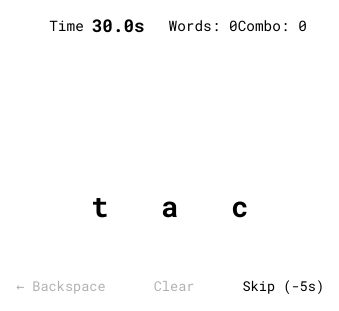
Test: TimedMode - Game Simulation › solving a word correctly increases the word count
The width and height of the screenshot is (339, 311).
expect the text "Words: 0" is shown: met, box [169,16,238,35]
Click the button "c" at (240, 206), box [209,175,271,237]
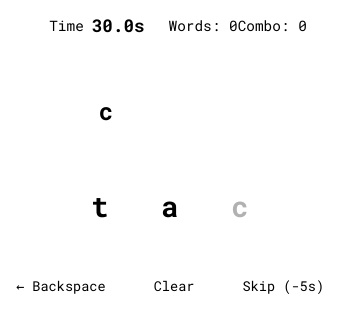
Click the button "a" at (170, 206), box [139,175,201,237]
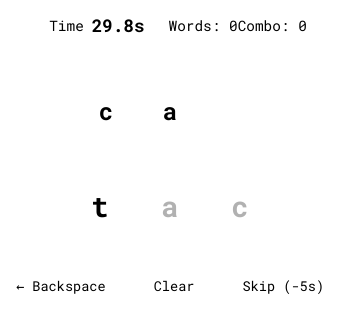
Click the button "t" at (100, 206), box [69,175,131,237]
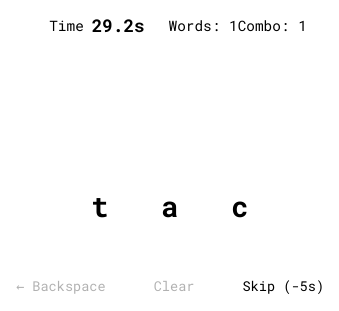
expect the text "Words: 1" is shown: met, box [169,16,238,35]
